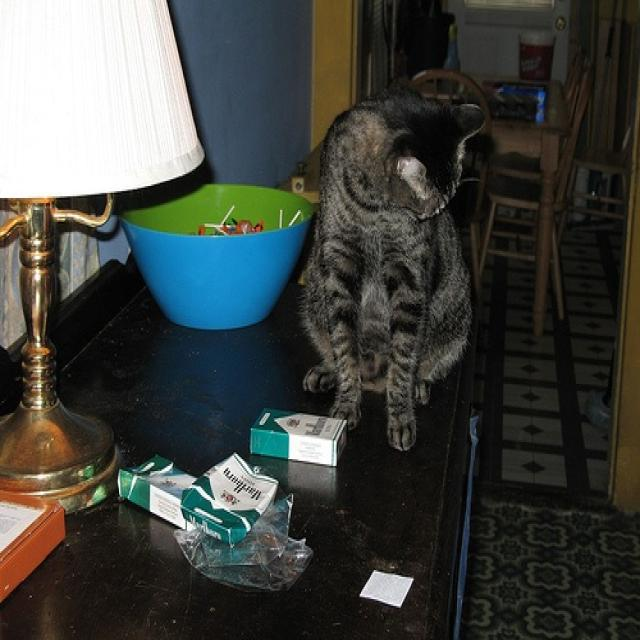cat: (296, 85, 489, 454)
chair: (471, 56, 594, 319)
diningtable: (388, 75, 571, 331)
